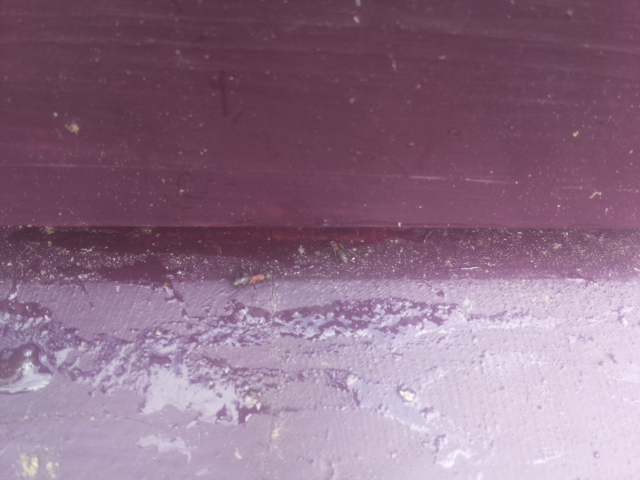ant: (230, 267, 276, 292), (325, 234, 351, 269)
